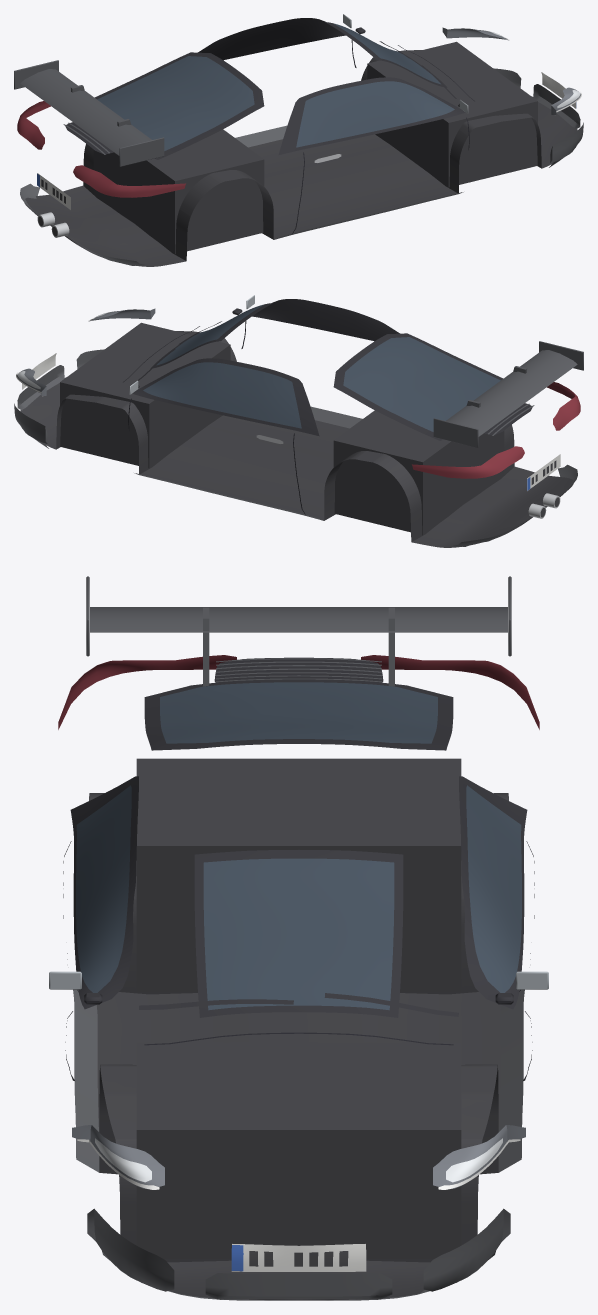
File: car_sports_detail.glb
3 views of the same model, one above another, from view 1: azimuth 30°, elevation 25°; view 2: azimuth 150°, elevation 25°; view 3: azimuth 270°, elevation 25° (orthographic). The views are drawn at different scales.
Parts seen in each view (by area): view 1: sports_detail_Under, sports_detail_CarGlass, sports_detail_Frit, sports_detail_Carbon, sports_detail_Plastic, sports_detail_TailDark, sports_detail_LampHousing, sports_detail_Plate, sports_detail_Silver; view 2: sports_detail_Under, sports_detail_CarGlass, sports_detail_Frit, sports_detail_Carbon, sports_detail_Plastic, sports_detail_TailDark, sports_detail_LampHousing, sports_detail_Plate, sports_detail_Silver; view 3: sports_detail_Under, sports_detail_CarGlass, sports_detail_Frit, sports_detail_Plastic, sports_detail_Carbon, sports_detail_TailDark, sports_detail_LampHousing, sports_detail_Plate, sports_detail_Lens, sports_detail_MirrorGlass.
Boxes of the visible parts, left/top/right/bottom form: sports_detail_Under: left=24, top=41, right=577, bottom=266; sports_detail_CarGlass: left=97, top=23, right=454, bottom=150; sports_detail_Frit: left=65, top=18, right=465, bottom=159; sports_detail_Carbon: left=14, top=60, right=164, bottom=166; sports_detail_Plastic: left=20, top=68, right=583, bottom=265; sports_detail_TailDark: left=17, top=101, right=185, bottom=197; sports_detail_LampHousing: left=442, top=27, right=581, bottom=114; sports_detail_Plate: left=37, top=72, right=575, bottom=209; sports_detail_Silver: left=37, top=154, right=341, bottom=237; sports_detail_Under: left=20, top=322, right=573, bottom=547; sports_detail_CarGlass: left=143, top=304, right=500, bottom=431; sports_detail_Frit: left=132, top=299, right=532, bottom=440; sports_detail_Carbon: left=433, top=341, right=583, bottom=447; sports_detail_Plastic: left=14, top=349, right=577, bottom=546; sports_detail_TailDark: left=412, top=382, right=580, bottom=478; sports_detail_LampHousing: left=16, top=308, right=155, bottom=395; sports_detail_Plate: left=22, top=353, right=560, bottom=490; sports_detail_Silver: left=256, top=435, right=560, bottom=518; sports_detail_Under: left=89, top=758, right=508, bottom=1300; sports_detail_CarGlass: left=76, top=682, right=521, bottom=1010; sports_detail_Frit: left=70, top=657, right=527, bottom=1017; sports_detail_Plastic: left=73, top=989, right=524, bottom=1300; sports_detail_Carbon: left=86, top=576, right=511, bottom=686; sports_detail_TailDark: left=58, top=655, right=539, bottom=729; sports_detail_LampHousing: left=72, top=1125, right=525, bottom=1189; sports_detail_Plate: left=231, top=1244, right=366, bottom=1271; sports_detail_Lens: left=95, top=1138, right=502, bottom=1182; sports_detail_MirrorGlass: left=49, top=971, right=548, bottom=989.
Bounding box in the file's own units: 4.59 × 1.16 × 1.94.
